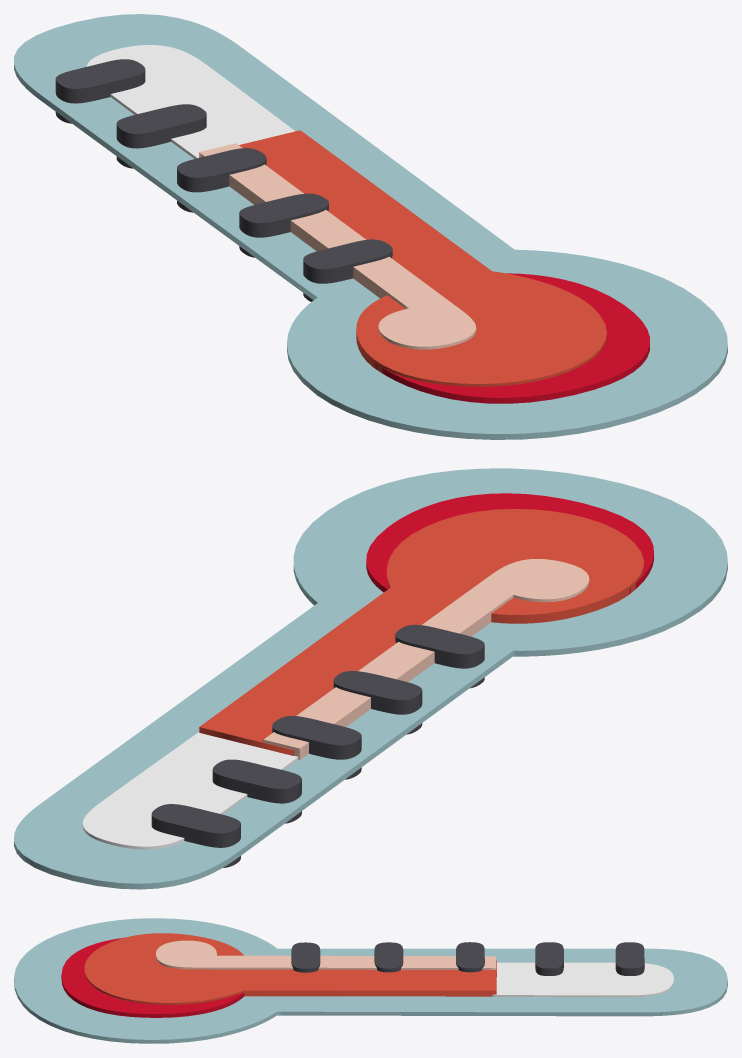
Rendered from emoji_u1f321.glb.
3 renders of one model, top to bottom at view 1: azimuth 30°, elevation 25°; view 2: azimuth 150°, elevation 25°; view 3: azimuth 270°, elevation 25°, orthographic. The views are drawn at different scales.
Parts seen in each view (by area): view 1: emoji_u1f321; view 2: emoji_u1f321; view 3: emoji_u1f321.
Boxes of the visible parts, x1,y1,x2,y2 form: emoji_u1f321: (14, 14, 727, 439); emoji_u1f321: (14, 468, 727, 889); emoji_u1f321: (14, 918, 727, 1043).
Size of the model in its own units: 0.0136 by 0.0012 by 0.0338.
